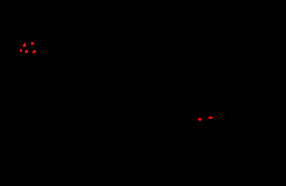Target: (208, 116, 213, 119), (23, 43, 26, 47), (32, 50, 36, 53), (31, 42, 34, 45), (25, 50, 28, 53), (198, 118, 201, 121), (20, 49, 22, 52)
